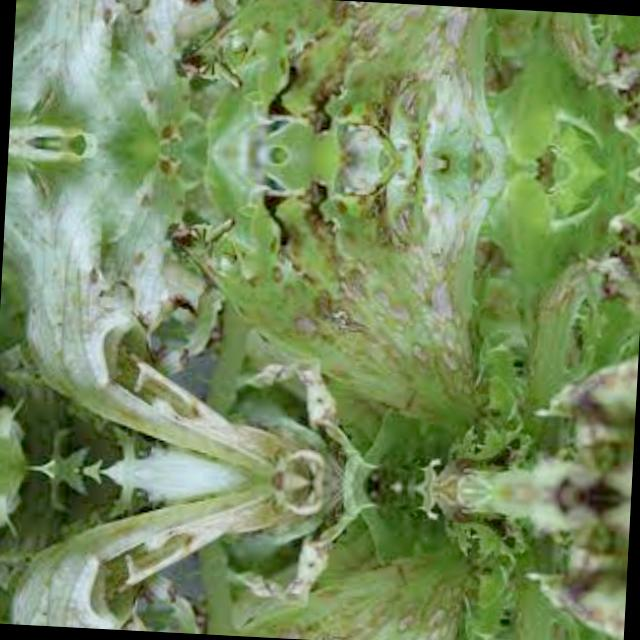Lettuce - Anthracnose: (5, 156, 640, 498), (0, 465, 631, 640), (22, 0, 640, 159)
